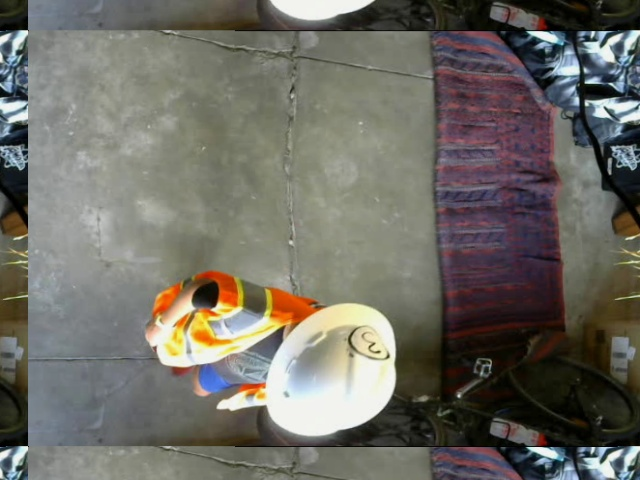three: (347, 324, 393, 362)
